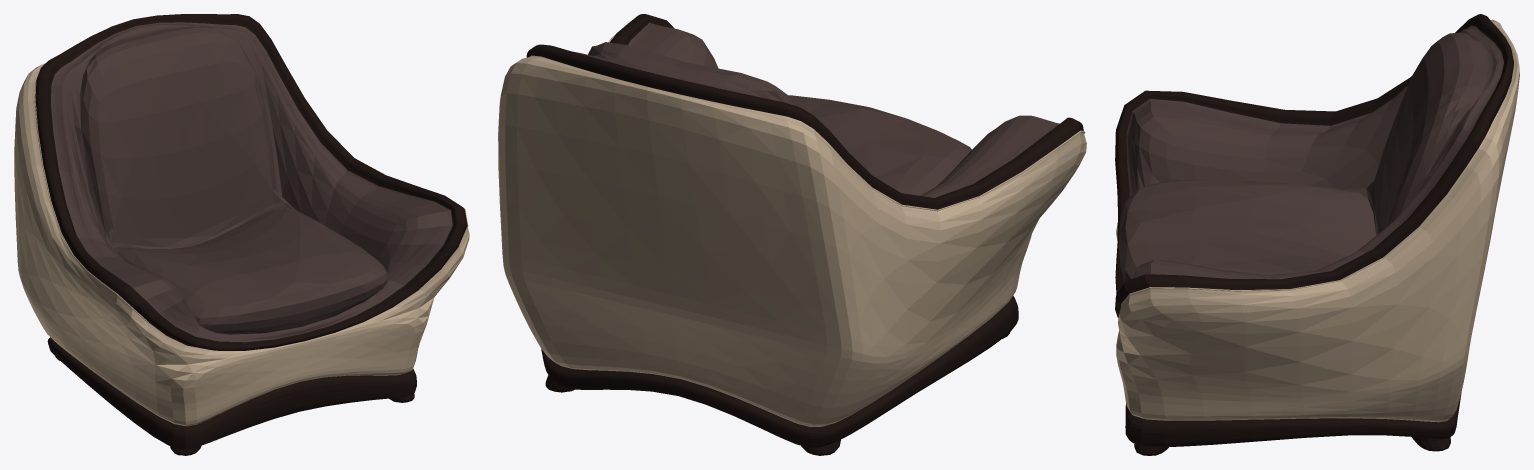
The model's file is armchair1.obj.
3 views of the same model, side by side, from view 1: azimuth 30°, elevation 25°; view 2: azimuth 150°, elevation 25°; view 3: azimuth 270°, elevation 25° (orthographic). The views are drawn at different scales.
Visible parts, largest first — view 1: Armchair; view 2: Armchair; view 3: Armchair.
Boxes of the visible parts, bbox=[...] form: Armchair: bbox=[14, 14, 469, 455]; Armchair: bbox=[498, 14, 1086, 455]; Armchair: bbox=[1115, 14, 1519, 455].
Size of the model in its own units: 100 by 79.98 by 88.17.
